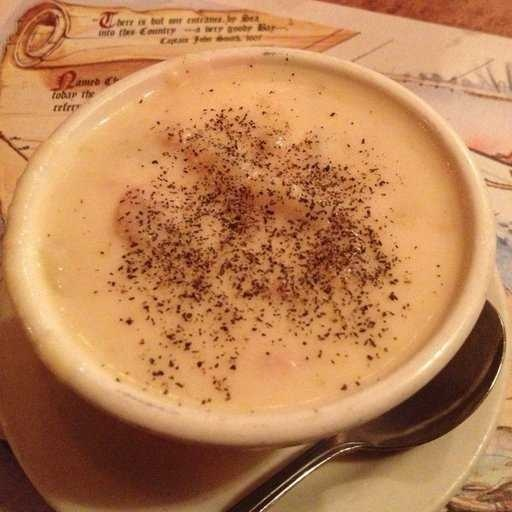soup: (26, 65, 481, 406)
